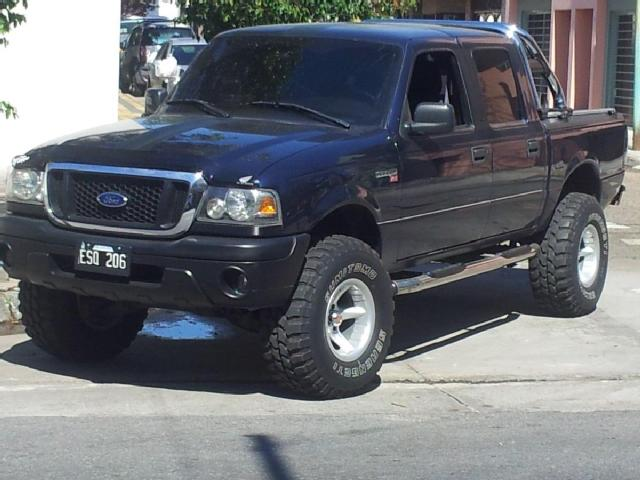car: (7, 23, 626, 393), (128, 18, 198, 90), (148, 40, 221, 105)
